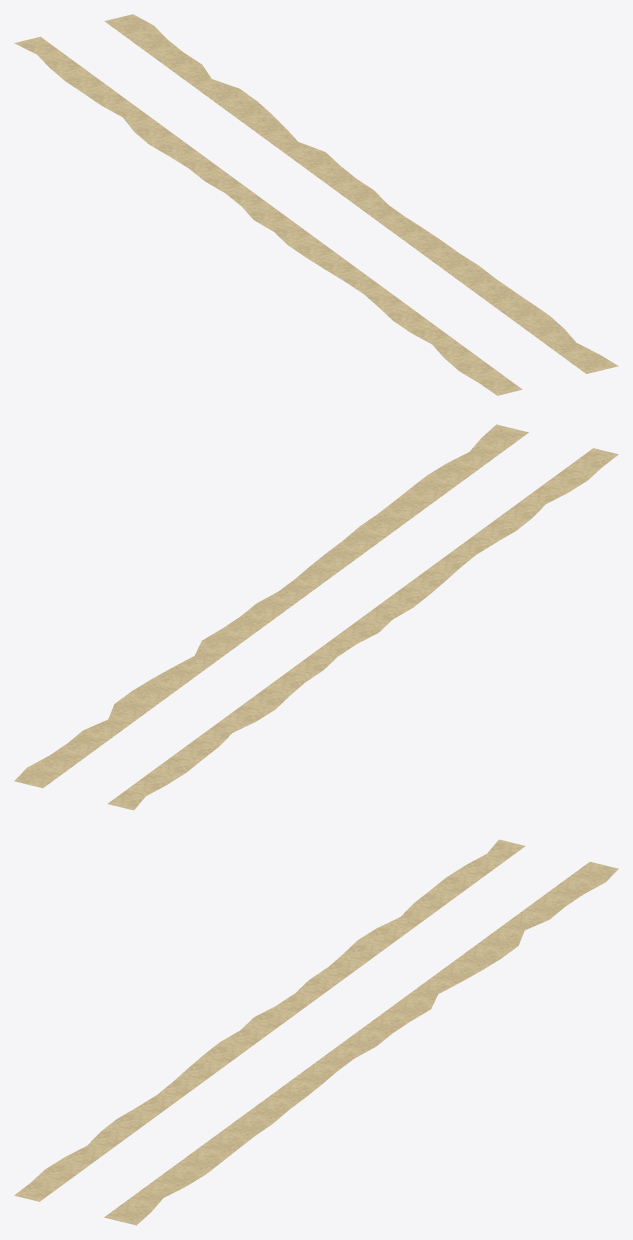
Rendered from riverBanks.glb.
3 renders of one model, top to bottom at view 1: azimuth 30°, elevation 25°; view 2: azimuth 150°, elevation 25°; view 3: azimuth 330°, elevation 25°, orthographic.
Visible parts, largest first — view 1: riverBanks; view 2: riverBanks; view 3: riverBanks.
Part boxes in pixels (left/top/right/bottom): riverBanks: left=14, top=14, right=618, bottom=395; riverBanks: left=14, top=424, right=618, bottom=810; riverBanks: left=14, top=839, right=618, bottom=1225.
Bounding box in the file's own units: 6.32 × 0 × 42.
Materials: 1 (1 with a texture image).
